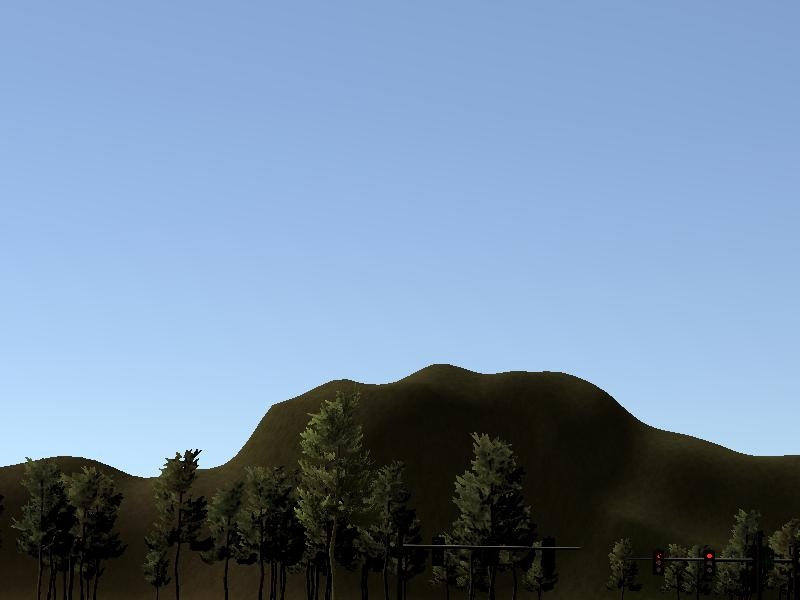RED: (694, 543, 725, 590)
